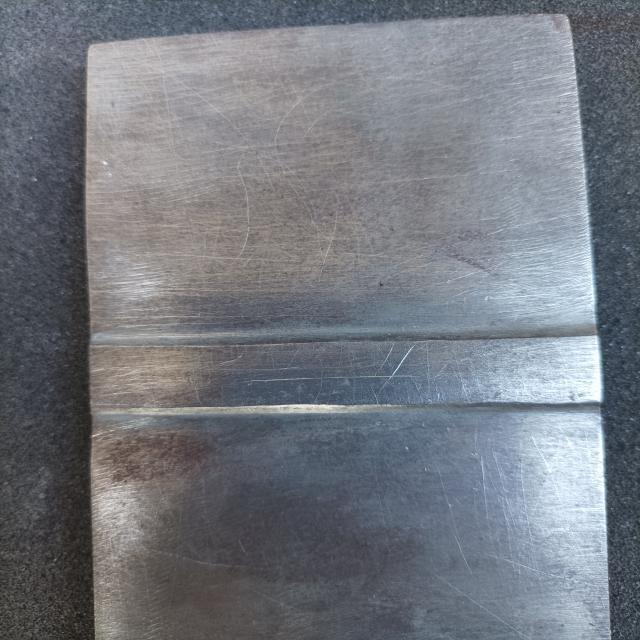Crack: (241, 374, 426, 383)
